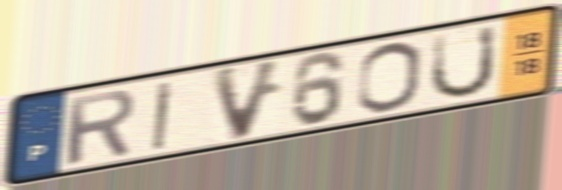6: (290, 49, 346, 131)
I: (149, 77, 177, 153)
O: (354, 39, 423, 115)
R: (63, 86, 138, 168)
U: (426, 21, 500, 102)
V: (208, 55, 289, 145)
